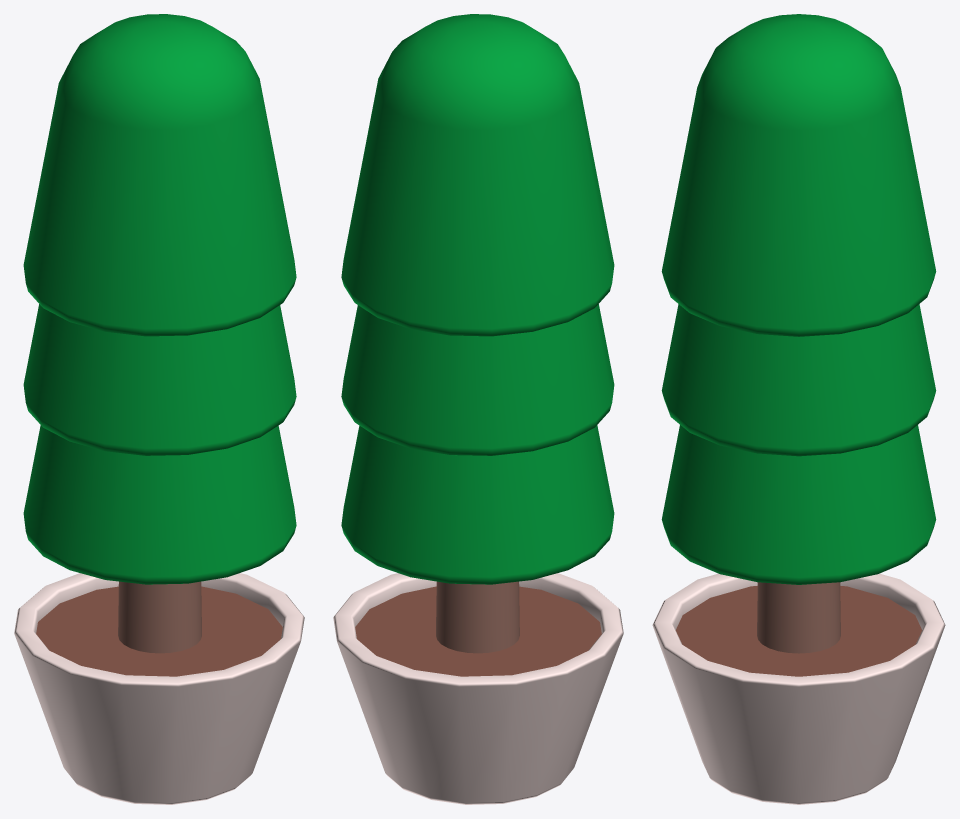
Rendered from City_8_Plant_4.glb.
3 views of the same model, side by side, from view 1: azimuth 30°, elevation 25°; view 2: azimuth 150°, elevation 25°; view 3: azimuth 270°, elevation 25° (orthographic).
Parts seen in each view (by area): view 1: City_8_Plant_4; view 2: City_8_Plant_4; view 3: City_8_Plant_4.
Part boxes in pixels (box(x1,y1,x2,y2)): City_8_Plant_4: box(14, 14, 304, 804); City_8_Plant_4: box(333, 14, 623, 804); City_8_Plant_4: box(652, 14, 945, 804).
Bounding box in the file's own units: 0.7538 × 2.08 × 0.7538.
1 material, 1 textured.
